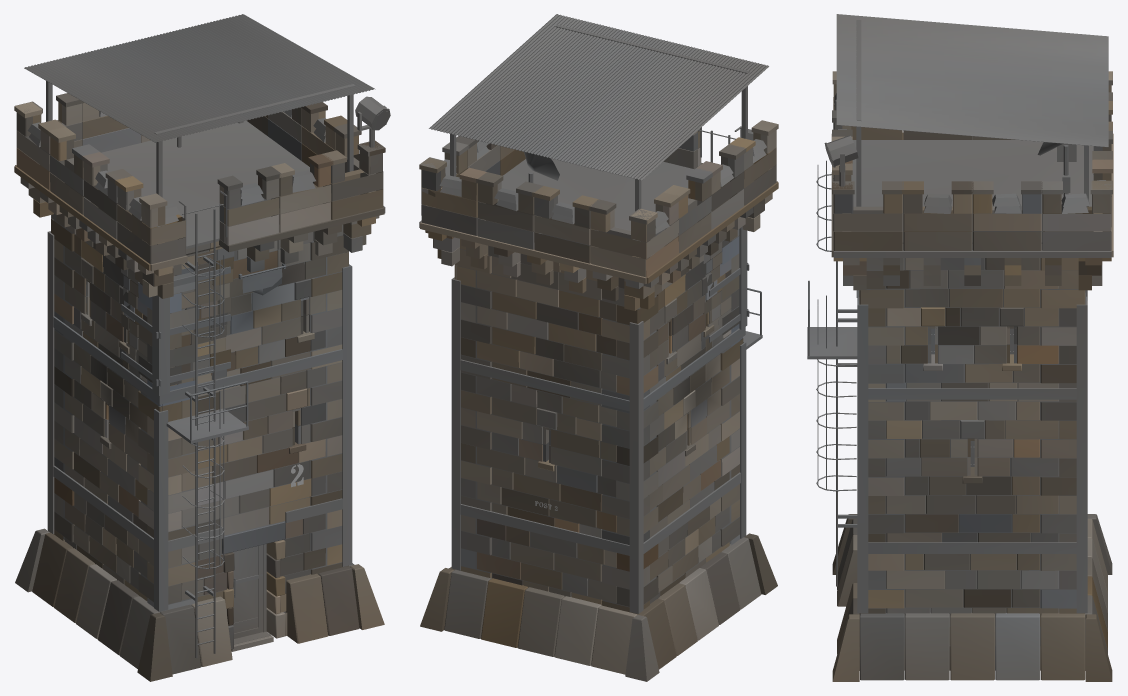
File: Watchtower2_LOD1.glb
The picture shows the model from 3 angles, left to right: view 1: azimuth 30°, elevation 25°; view 2: azimuth 150°, elevation 25°; view 3: azimuth 270°, elevation 25°; orthographic projection. The views are drawn at different scales.
Visible parts, largest first — view 1: Watchtower2_Masonry_LOD1, Watchtower2_Trim_LOD1, Watchtower2_Metal_LOD1, Watchtower2_Roof_LOD1, Watchtower2_Hardware_LOD1, Watchtower2_Canvas_LOD1; view 2: Watchtower2_Masonry_LOD1, Watchtower2_Trim_LOD1, Watchtower2_Roof_LOD1, Watchtower2_Metal_LOD1; view 3: Watchtower2_Masonry_LOD1, Watchtower2_Trim_LOD1, Watchtower2_Metal_LOD1, Watchtower2_Roof_LOD1.
Boxes of the visible parts, x1,y1,x2,y2 form: Watchtower2_Masonry_LOD1: (16,102,383,636); Watchtower2_Trim_LOD1: (14,93,385,681); Watchtower2_Metal_LOD1: (27,81,390,658); Watchtower2_Roof_LOD1: (24,14,375,142); Watchtower2_Hardware_LOD1: (197,253,214,644); Watchtower2_Canvas_LOD1: (242,268,282,295); Watchtower2_Masonry_LOD1: (421,129,776,614); Watchtower2_Trim_LOD1: (419,120,778,681); Watchtower2_Roof_LOD1: (429,14,768,180); Watchtower2_Metal_LOD1: (439,24,766,613); Watchtower2_Masonry_LOD1: (833,85,1111,670); Watchtower2_Trim_LOD1: (831,71,1113,681); Watchtower2_Metal_LOD1: (807,20,1111,613); Watchtower2_Roof_LOD1: (836,14,1108,147).
Size of the model in its own units: 5.84 by 12.51 by 6.21.
